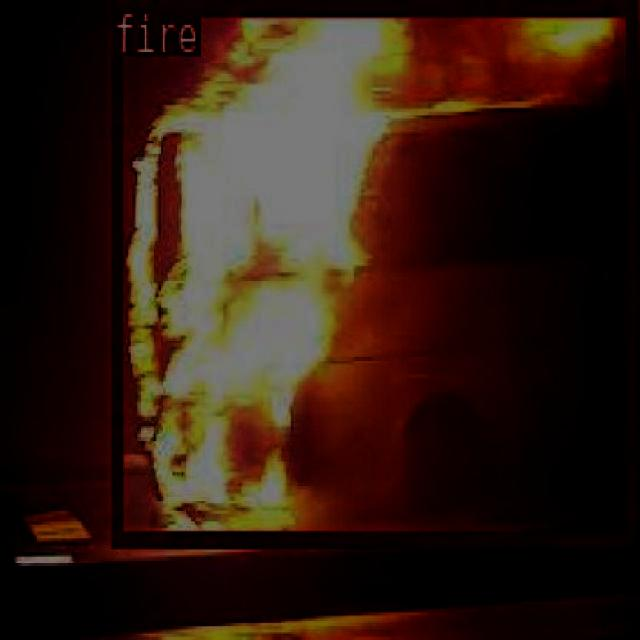fire: (110, 0, 632, 542)
